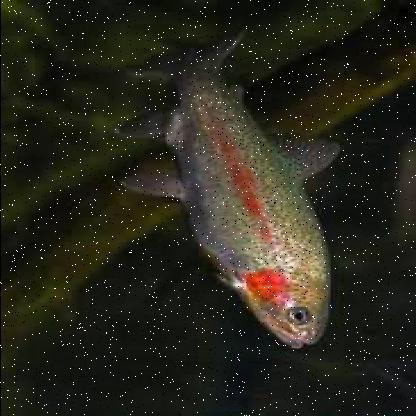fish: (119, 32, 340, 350)
